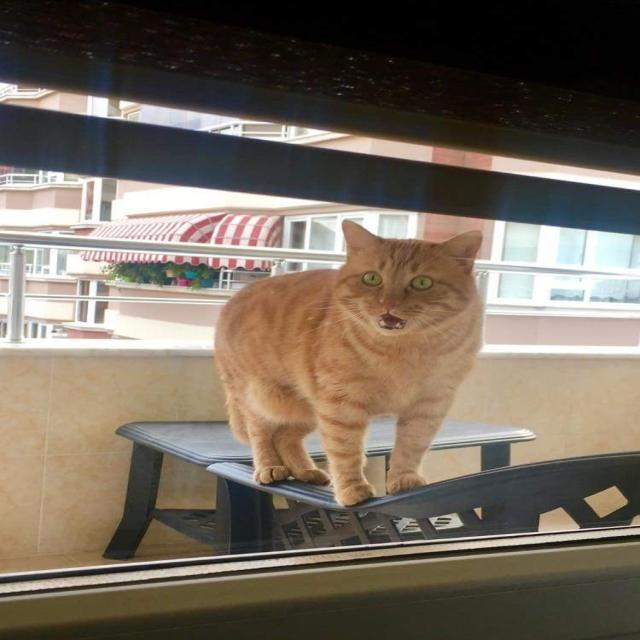sarman: (90, 123, 535, 624)
